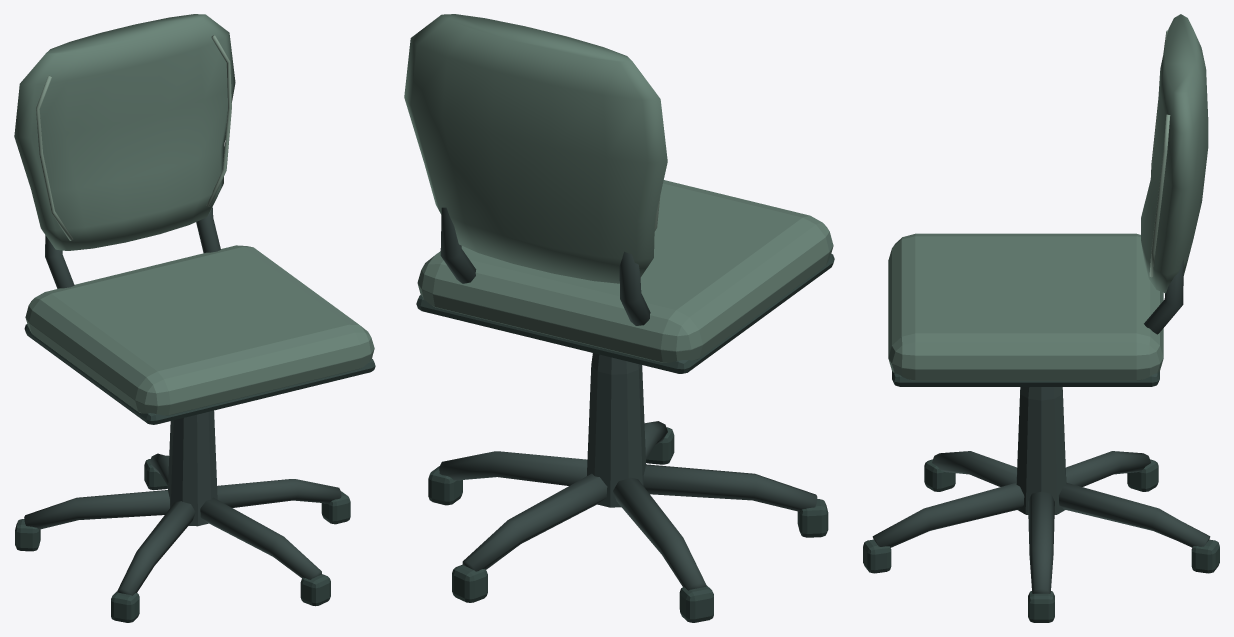
File: work_chair.glb
The picture shows the model from 3 angles, left to right: view 1: azimuth 30°, elevation 25°; view 2: azimuth 150°, elevation 25°; view 3: azimuth 270°, elevation 25°; orthographic projection. The views are drawn at different scales.
Parts seen in each view (by area): view 1: Sculpted backrest, Seat cushion, Pneumatic column, Wheel strut.002, Wheel strut.004, Wheel strut, Wheel strut.003, Seat pan seam, Caster wheel.004, Backrest attachment, Upholstery piping.001, Upholstery piping (+4 smaller); view 2: Sculpted backrest, Seat cushion, Pneumatic column, Wheel strut.003, Wheel strut.001, Wheel strut, Wheel strut.002, Seat pan seam, Backrest attachment, Backrest attachment.001, Caster wheel.001, Caster wheel.002 (+3 smaller); view 3: Seat cushion, Sculpted backrest, Pneumatic column, Wheel strut.004, Wheel strut.001, Wheel strut, Wheel strut.002, Wheel strut.003, Seat pan seam, Backrest attachment.001, Caster wheel.001, Caster wheel.004 (+4 smaller).
Part boxes in pixels (x1,y1,x2,y2): Sculpted backrest: (14,14,235,250); Seat cushion: (25,245,374,415); Pneumatic column: (168,410,217,526); Wheel strut.002: (24,490,169,529); Wheel strut.004: (200,497,321,579); Wheel strut: (217,479,341,507); Wheel strut.003: (117,501,195,595); Seat pan seam: (24,324,375,424); Caster wheel.004: (300,574,330,606); Backrest attachment: (45,235,74,288); Upholstery piping.001: (206,35,231,206); Upholstery piping: (36,75,73,240); Sculpted backrest: (404,14,667,283); Seat cushion: (417,180,833,362); Pneumatic column: (587,353,646,507); Wheel strut.003: (643,464,817,511); Wheel strut.001: (462,473,607,571); Wheel strut: (439,451,587,485); Wheel strut.002: (613,477,706,590); Seat pan seam: (416,253,834,373); Backrest attachment: (619,251,650,325); Backrest attachment.001: (440,207,476,283); Caster wheel.001: (452,564,487,602); Caster wheel.002: (679,585,713,622); Seat cushion: (888,233,1163,380); Sculpted backrest: (1141,14,1208,293); Pneumatic column: (1016,387,1066,514); Wheel strut.004: (872,482,1024,547); Wheel strut.001: (1059,482,1210,547); Wheel strut: (1028,491,1054,593); Wheel strut.002: (1066,451,1150,486); Wheel strut.003: (932,451,1016,486); Seat pan seam: (892,371,1159,386); Backrest attachment.001: (1144,260,1183,334); Caster wheel.001: (1191,539,1219,573); Caster wheel.004: (863,539,891,573).
Size of the model in its own units: 0.5936 by 0.947 by 0.6221.
